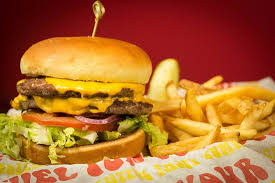hamburger: (14, 35, 153, 167)
